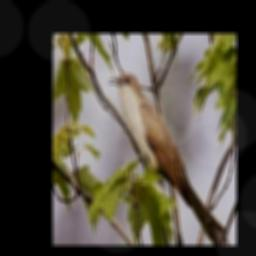Cuckoo: (108, 72, 229, 245)
